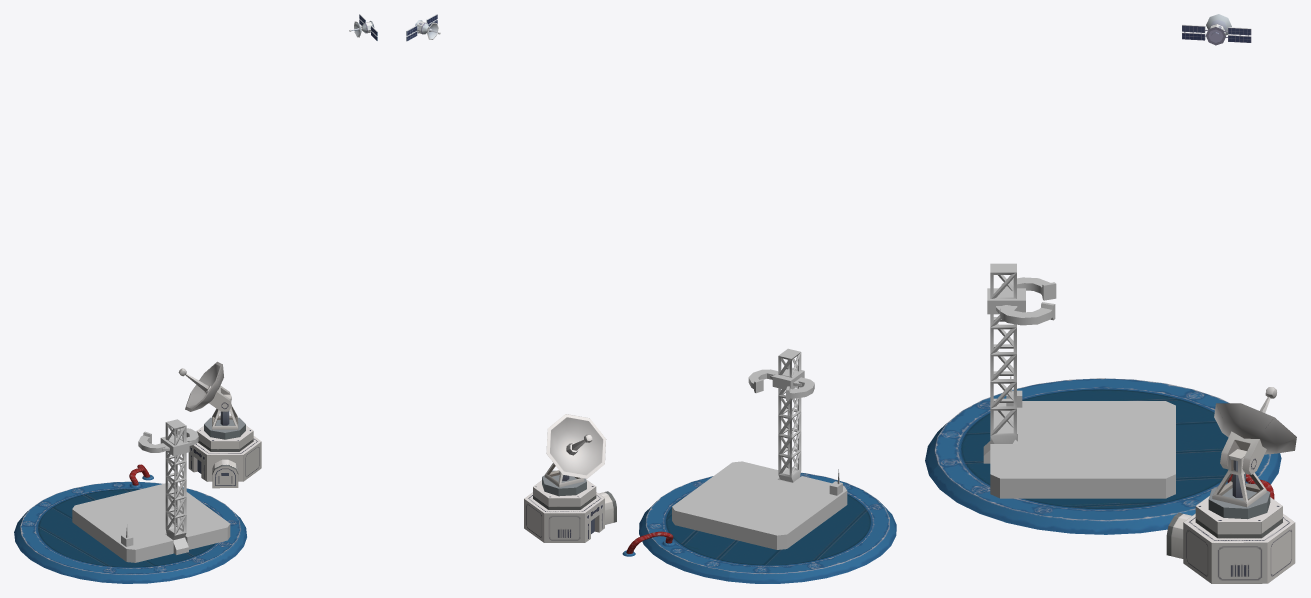
File: envi.fbx
3 renders of one model, left to right at view 1: azimuth 30°, elevation 25°; view 2: azimuth 150°, elevation 25°; view 3: azimuth 270°, elevation 25°, orthographic. The views are drawn at different scales.
Visible parts, largest first — view 1: model_6; view 2: model_6; view 3: model_6.
Boxes of the visible parts, bbox=[...] form: model_6: bbox=[14, 14, 377, 583]; model_6: bbox=[406, 14, 896, 583]; model_6: bbox=[925, 14, 1296, 583].
Size of the model in its own units: 2968 by 3173 by 1644.
